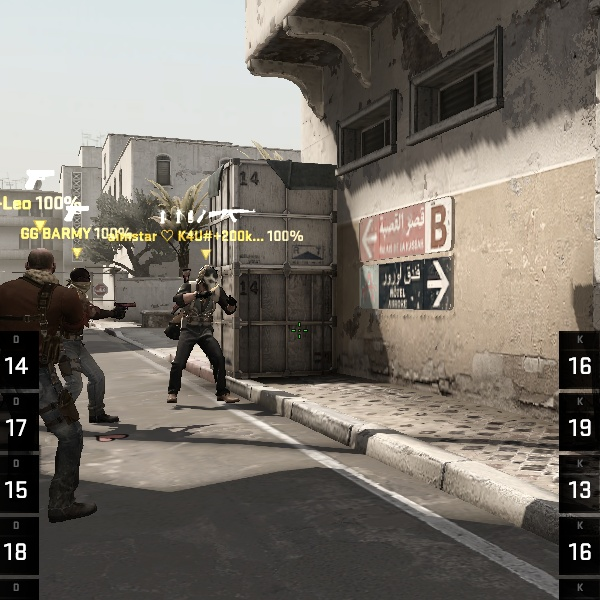t_body: (0, 242, 131, 543), (154, 259, 241, 409)
t_head: (17, 245, 67, 294)
